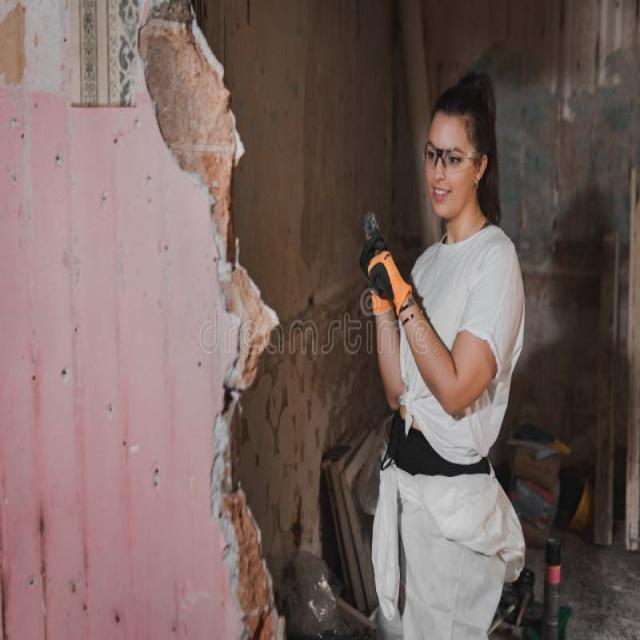no-hard-hat: (421, 57, 508, 145)
no-jacket: (368, 206, 523, 478)
no-mask: (414, 159, 475, 225)
person: (311, 45, 539, 640)
